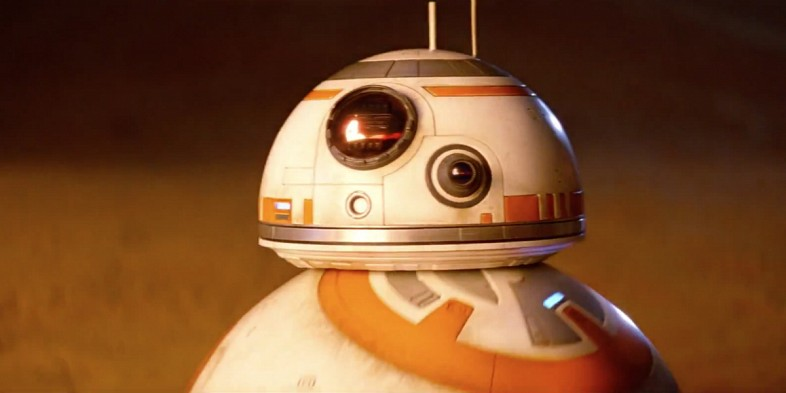bb8: (190, 48, 680, 393)
